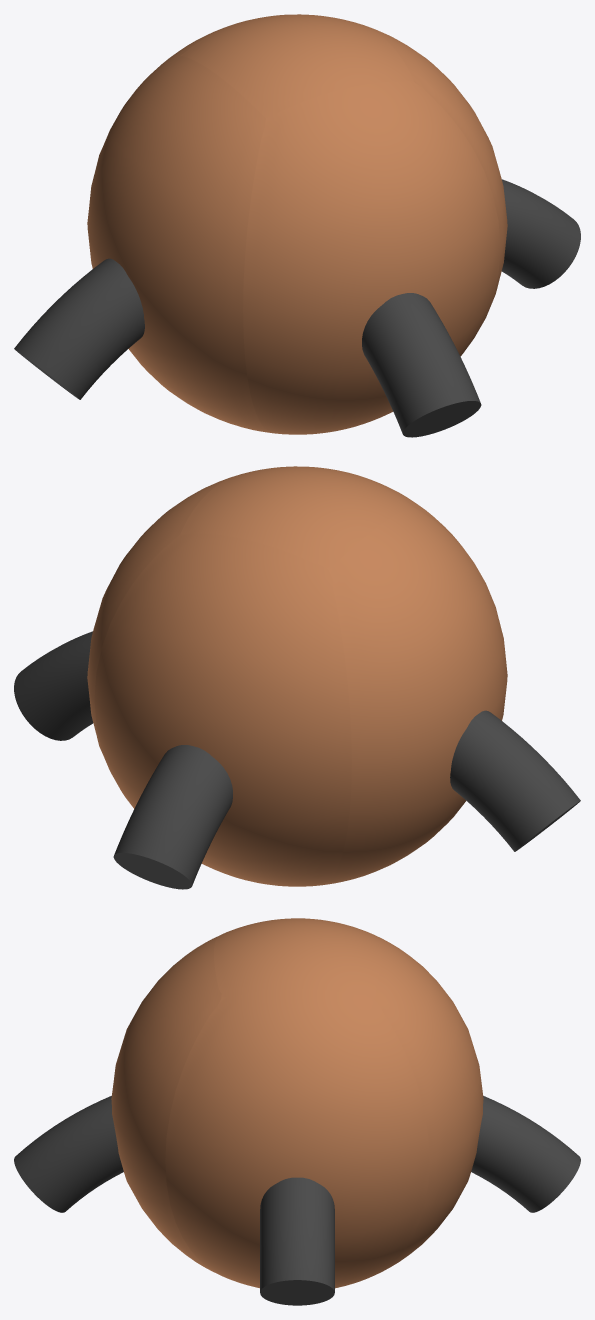
The picture shows the model from 3 angles, top to bottom: view 1: azimuth 30°, elevation 25°; view 2: azimuth 150°, elevation 25°; view 3: azimuth 270°, elevation 25°; orthographic projection. The views are drawn at different scales.
Visible parts, largest first — view 1: Body(Spherical)+Colour(6070059_6070059)+Pattern(Solid)+_93e6, Arm004, Arm002, Arm001; view 2: Body(Spherical)+Colour(6070059_6070059)+Pattern(Solid)+_93e6, Arm003, Arm002, Arm001; view 3: Body(Spherical)+Colour(6070059_6070059)+Pattern(Solid)+_93e6, Arm001, Arm004, Arm003.
Part boxes in pixels (box(x1,y1,x2,y2)): Body(Spherical)+Colour(6070059_6070059)+Pattern(Solid)+_93e6: box(87, 14, 507, 434); Arm004: box(362, 293, 481, 437); Arm002: box(14, 258, 144, 399); Arm001: box(502, 179, 580, 288); Body(Spherical)+Colour(6070059_6070059)+Pattern(Solid)+_93e6: box(87, 466, 507, 886); Arm003: box(113, 745, 232, 889); Arm002: box(450, 710, 580, 851); Arm001: box(14, 631, 93, 740); Body(Spherical)+Colour(6070059_6070059)+Pattern(Solid)+_93e6: box(111, 918, 483, 1288); Arm001: box(260, 1177, 334, 1305); Arm004: box(14, 1096, 123, 1212); Arm003: box(471, 1096, 580, 1212).
Bounding box in the file's own units: 1.54 × 1.02 × 1.54.
2 materials, 2 textured.
